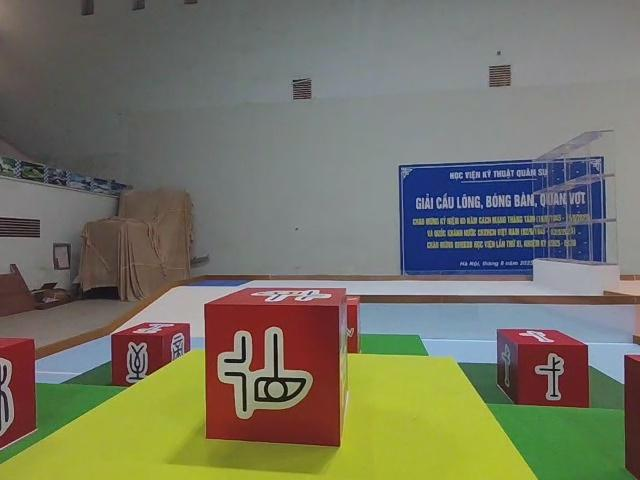R2 Fake: (109, 323, 191, 395)
R2 Real: (203, 287, 348, 447), (495, 329, 588, 410)
